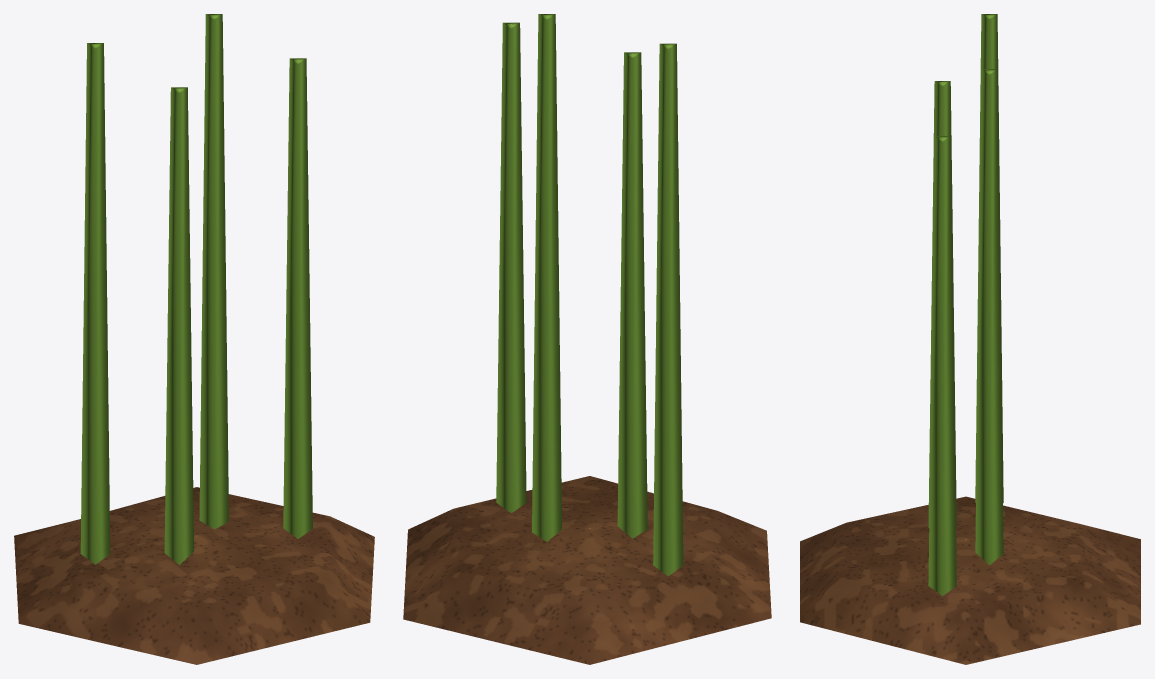
The model's file is plant-corn-3-far.glb.
The picture shows the model from 3 angles, left to right: view 1: azimuth 30°, elevation 25°; view 2: azimuth 150°, elevation 25°; view 3: azimuth 270°, elevation 25°; orthographic projection. The views are drawn at different scales.
Parts seen in each view (by area): view 1: plant-corn-3-far; view 2: plant-corn-3-far; view 3: plant-corn-3-far.
Part boxes in pixels (x1=…): plant-corn-3-far: x1=14, y1=14, x2=374, y2=664; plant-corn-3-far: x1=403, y1=14, x2=771, y2=664; plant-corn-3-far: x1=800, y1=14, x2=1140, y2=664.
Bounding box in the file's own units: 0.84 × 1.24 × 0.7275.
Materials: 2 (1 with a texture image).
